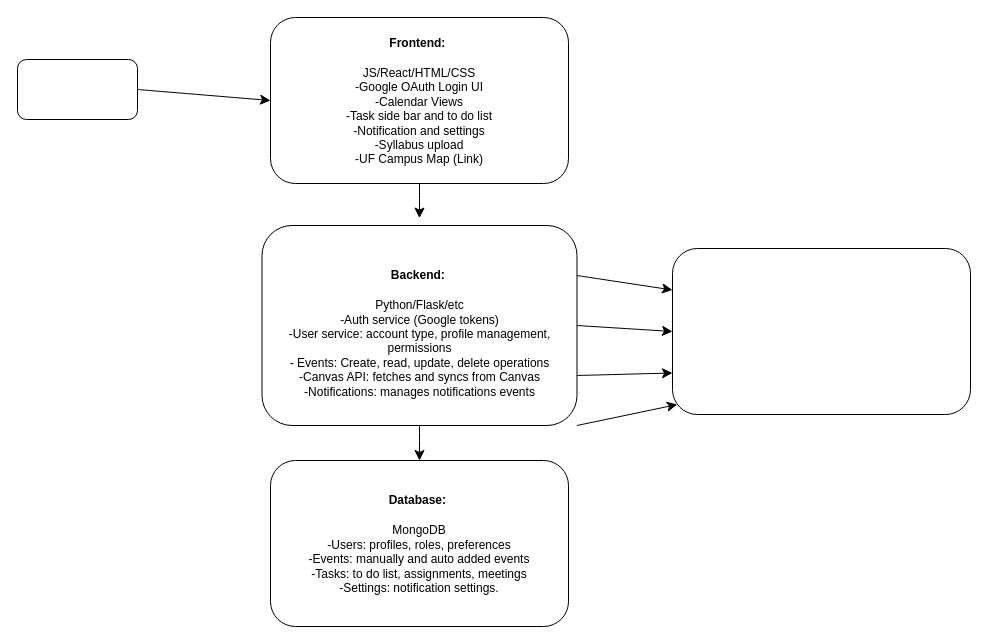
This 988x644 diagram has some shape labels left out. The centre of each missing label's shape, as x and y in pixels:
External Systems -Google OAuth 2.0 -Canvas API -UF Campus Map: point (821, 331)
Users/Browser (Student / Guest account): point (77, 89)
